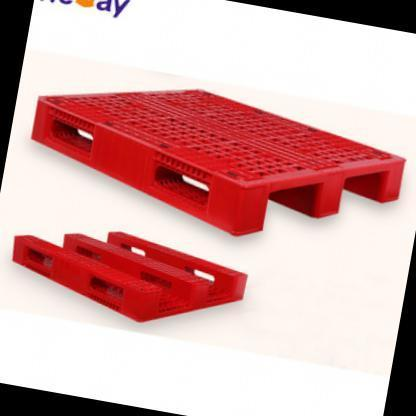pallet: (30, 88, 405, 236), (14, 229, 250, 323)
